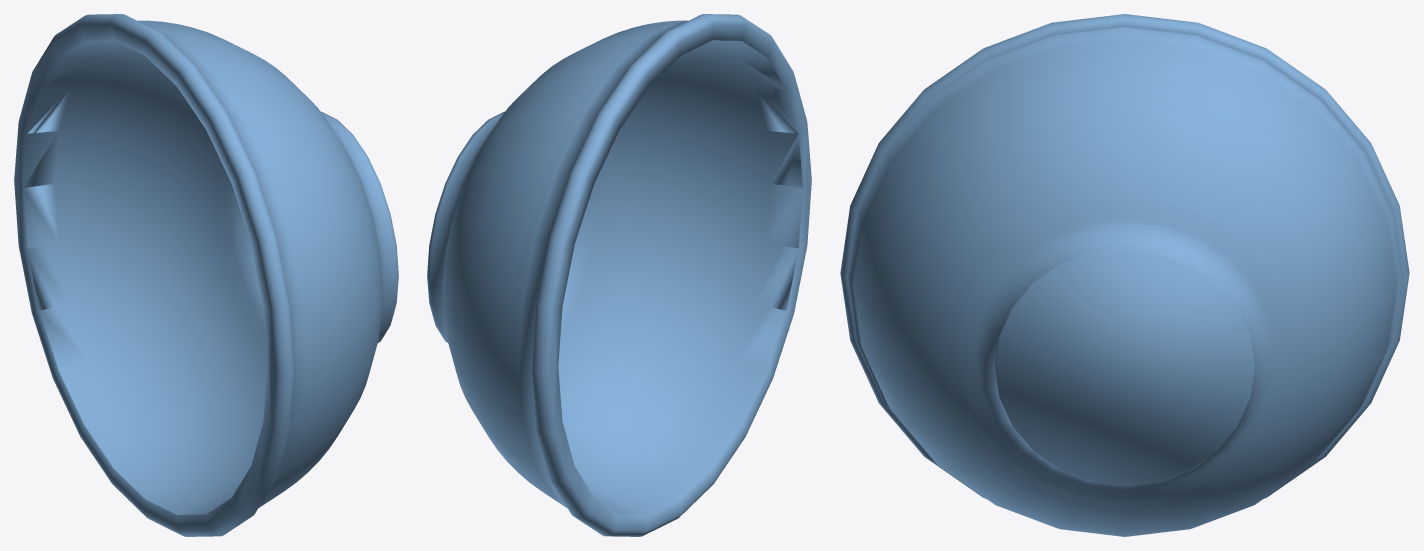
Rendered from bowl1_4.dae.
3 views of the same model, side by side, from view 1: azimuth 30°, elevation 25°; view 2: azimuth 150°, elevation 25°; view 3: azimuth 270°, elevation 25° (orthographic). The views are drawn at different scales.
Visible parts, largest first — view 1: bowl1_019; view 2: bowl1_019; view 3: bowl1_019.
Part boxes in pixels (bbox=[...]): bowl1_019: bbox=[14, 14, 398, 536]; bowl1_019: bbox=[427, 14, 811, 536]; bowl1_019: bbox=[840, 14, 1409, 536].
Bounding box in the file's own units: 0.0894 × 0.217 × 0.217.
